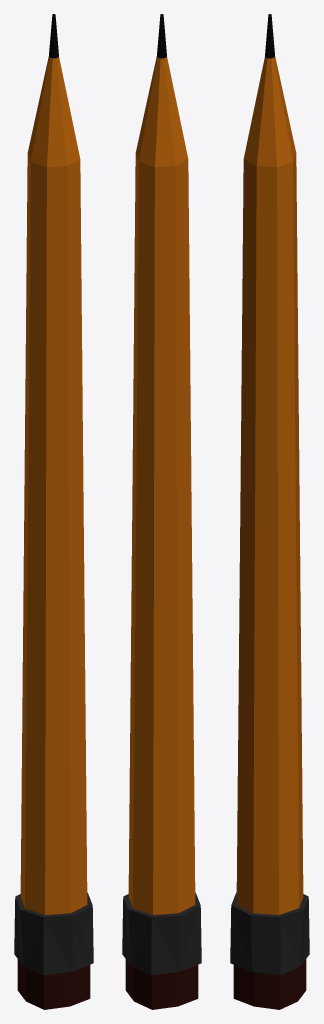
File: Pencil1.obj
3 views of the same model, side by side, from view 1: azimuth 30°, elevation 25°; view 2: azimuth 210°, elevation 25°; view 3: azimuth 330°, elevation 25° (orthographic).
Visible parts, largest first — view 1: Pencil1_Cube.001; view 2: Pencil1_Cube.001; view 3: Pencil1_Cube.001.
Part boxes in pixels (x1,y1,x2,y2): Pencil1_Cube.001: [14, 14, 93, 1009]; Pencil1_Cube.001: [122, 14, 201, 1009]; Pencil1_Cube.001: [230, 14, 309, 1009].
Bounding box in the file's own units: 0.0193 × 0.2667 × 0.0193.
